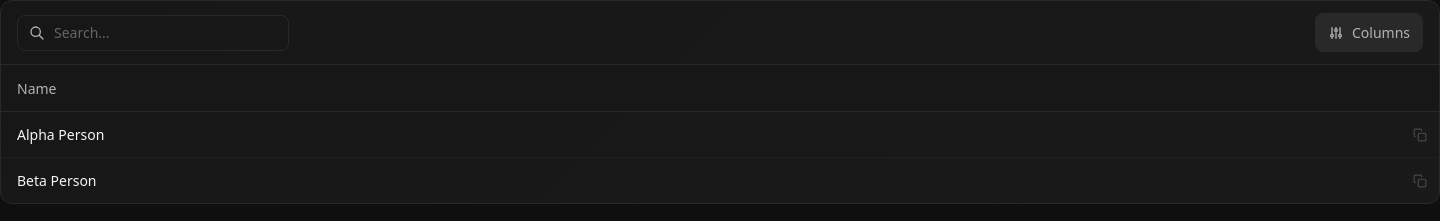
it: DataTable search › debounces a search without creating a reactive update loop
Check: the text "Alpha Person" is shown, box [1, 112, 1401, 158]
Check: the text "Beta Person" is shown, box [1, 158, 1401, 203]
In the field named "Search table": (153,32) [17, 14, 289, 50], type "Alpha"
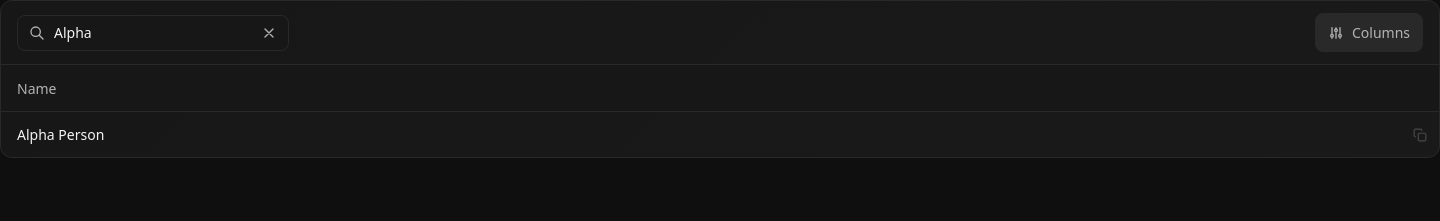
Check: the text "Alpha Person" is shown, box [1, 112, 1401, 157]
Check: the text "Beta Person" is gone
